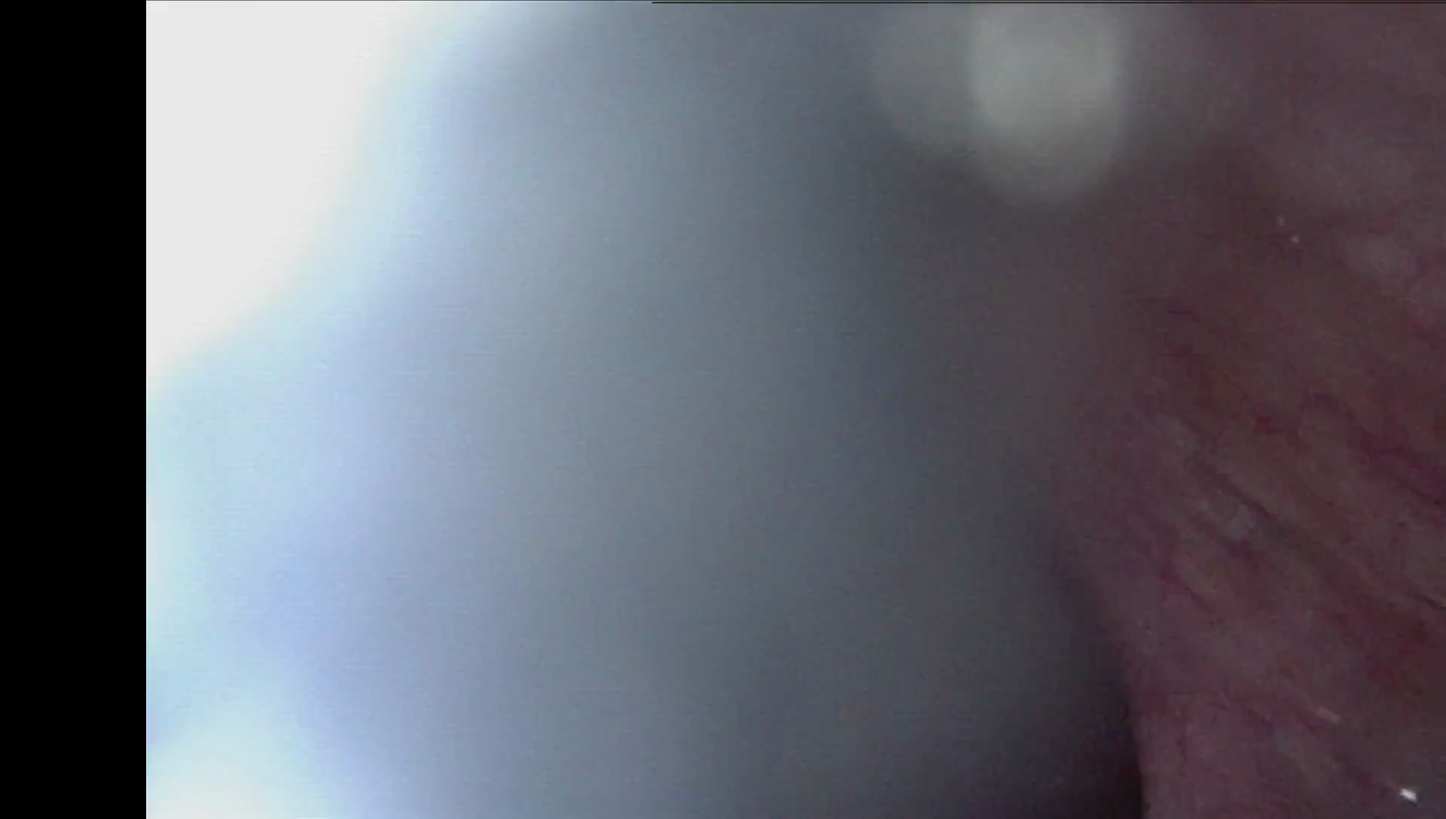next: (916, 581, 1253, 819)
